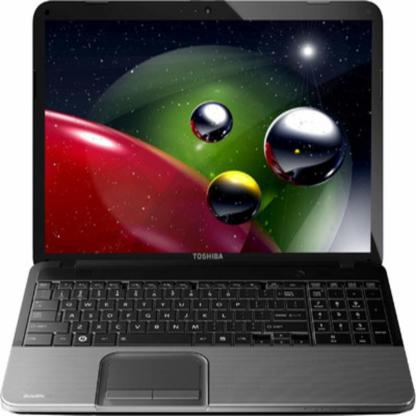board: (0, 3, 415, 415)
